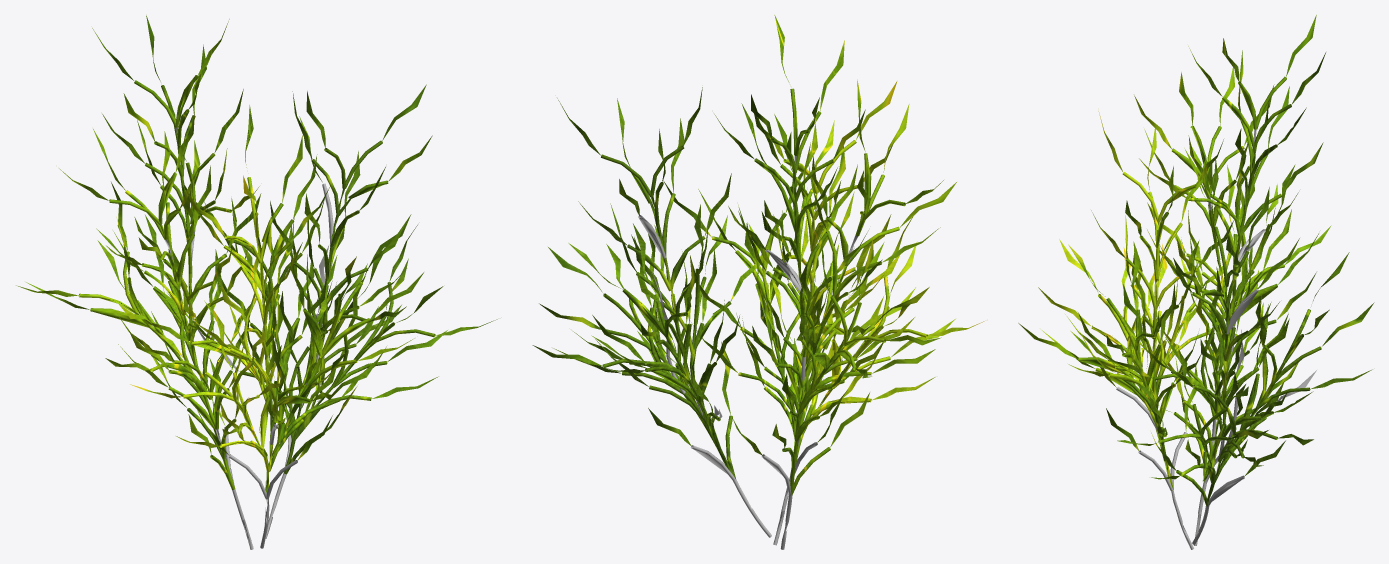
Rendered from plant_52.fbx.
3 renders of one model, left to right at view 1: azimuth 30°, elevation 25°; view 2: azimuth 150°, elevation 25°; view 3: azimuth 270°, elevation 25°, orthographic. The views are drawn at different scales.
Parts seen in each view (by area): view 1: aquatic09; view 2: aquatic09; view 3: aquatic09.
Boxes of the visible parts, left/top/right/bottom form: aquatic09: left=16, top=15, right=497, bottom=549; aquatic09: left=532, top=15, right=984, bottom=549; aquatic09: left=1018, top=15, right=1374, bottom=549.
Bounding box in the file's own units: 9.78 × 12.1 × 7.74.
